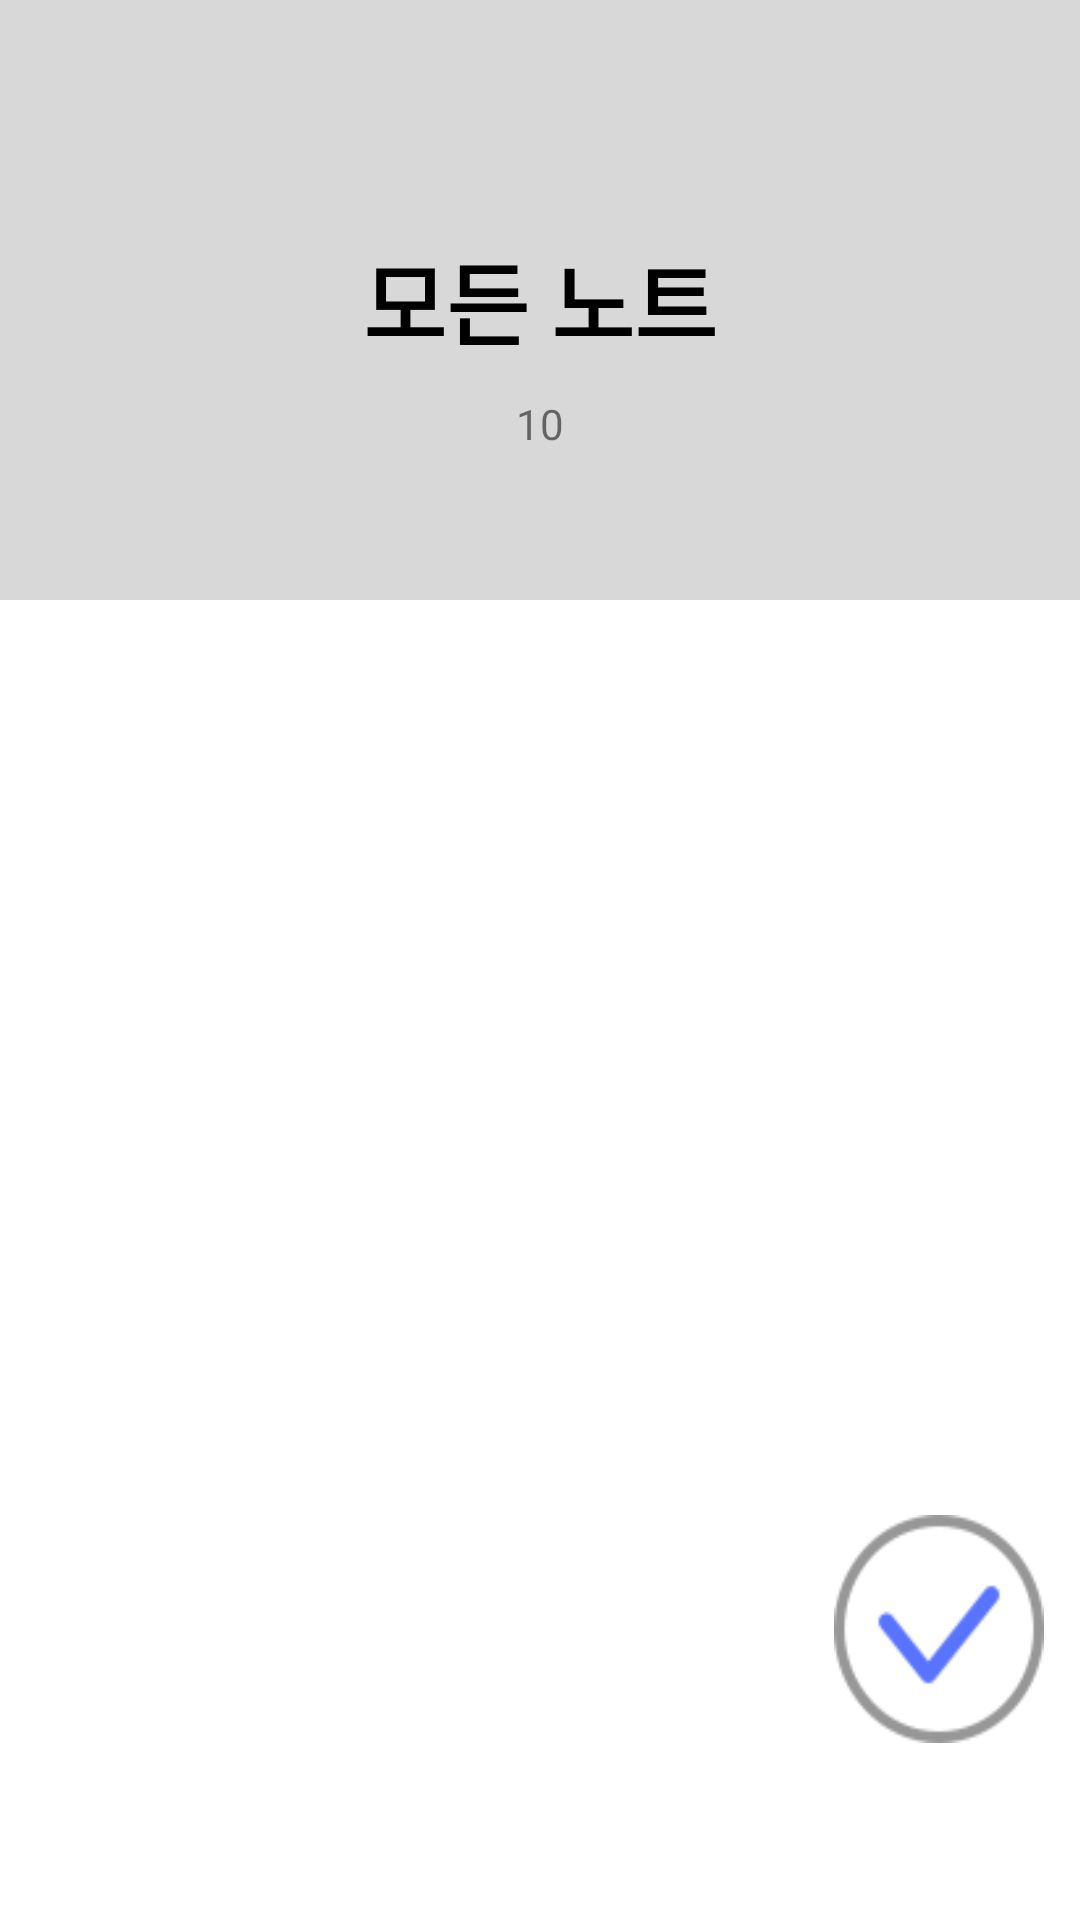

Where icons sit on this 1080w x 1920h app screen, as (x1, y1, x2, y2):
check on: (834, 1515, 1044, 1743)
